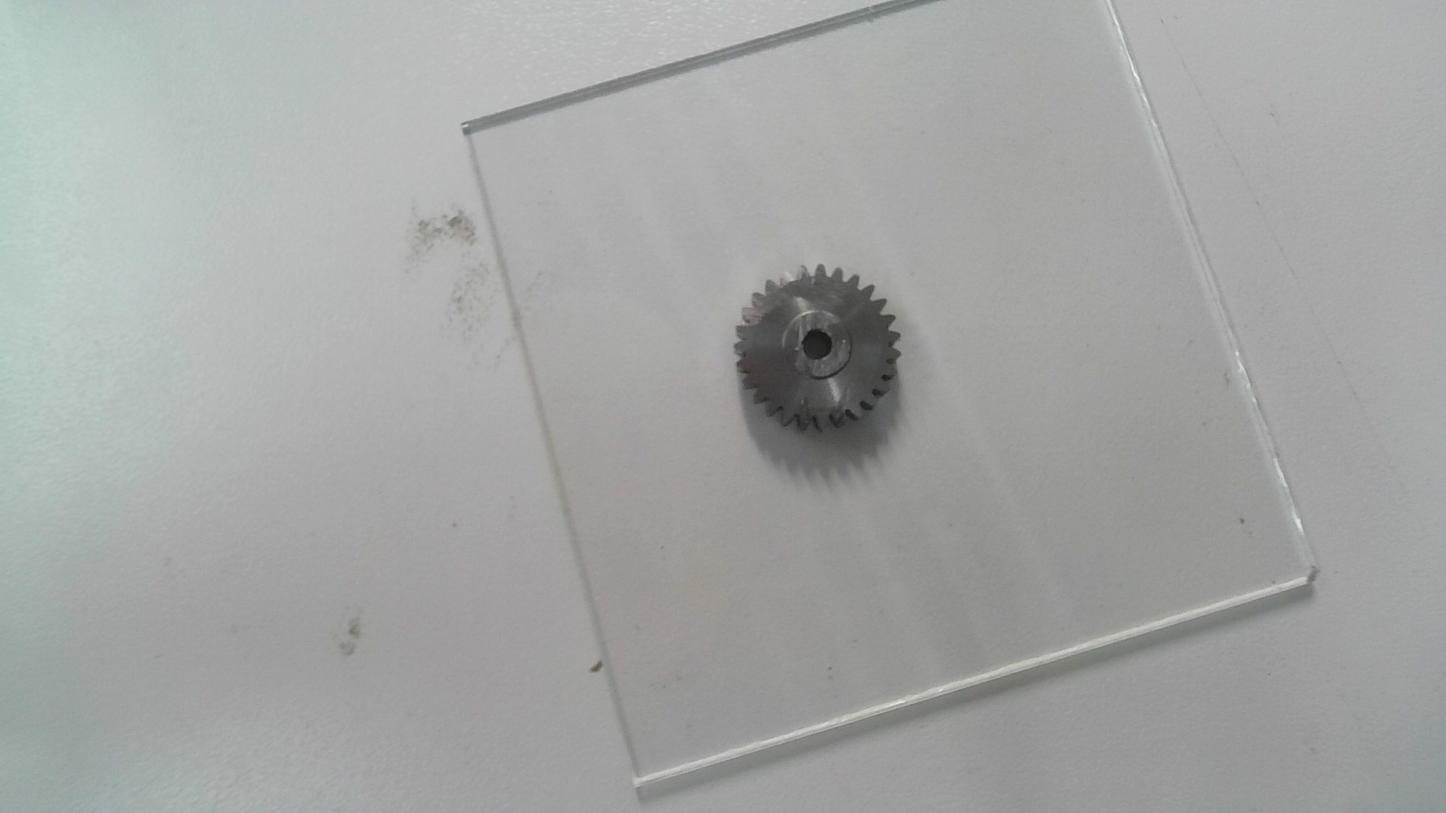gear: (733, 264, 905, 435)
